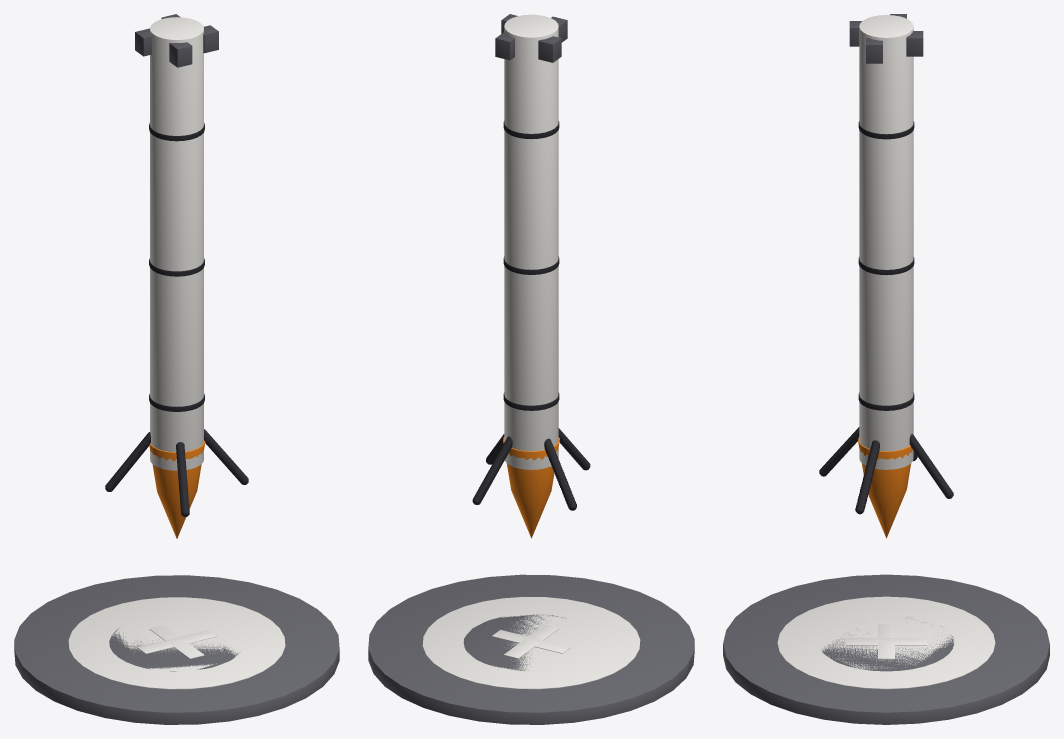
The model's file is falcon9_land.glb.
3 renders of one model, left to right at view 1: azimuth 30°, elevation 25°; view 2: azimuth 150°, elevation 25°; view 3: azimuth 270°, elevation 25°, orthographic.
Visible parts, largest first — view 1: falcon9_land; view 2: falcon9_land; view 3: falcon9_land.
Boxes of the visible parts, x1,y1,x2,y2 form: falcon9_land: (14,14,339,724); falcon9_land: (368,14,694,724); falcon9_land: (723,14,1049,724).
Size of the model in its own units: 4.8 by 10.2 by 4.8.
